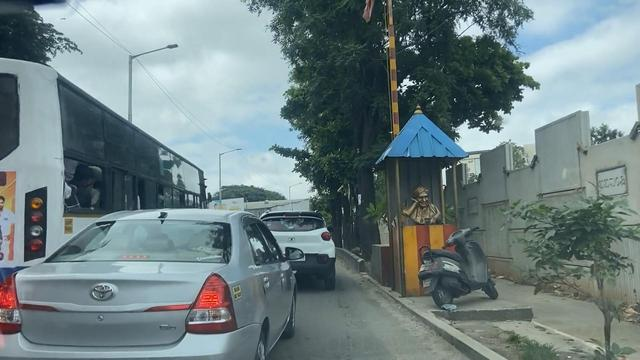LMV: (0, 210, 291, 359)
